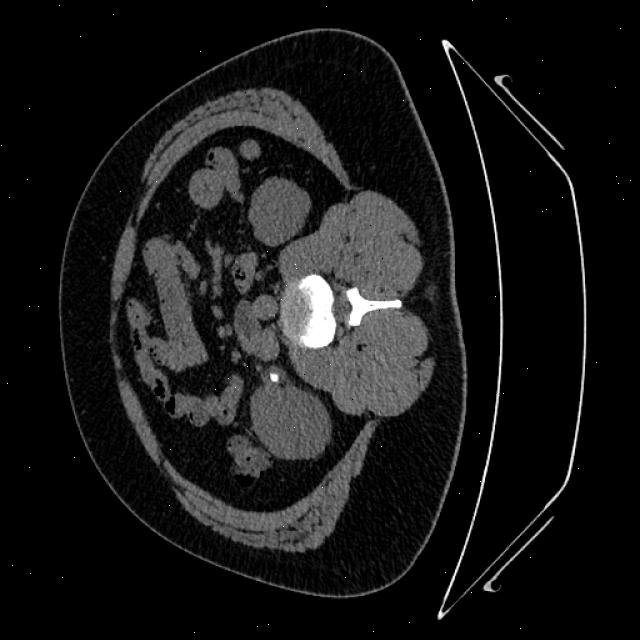kidneystone: (270, 372, 279, 382)
